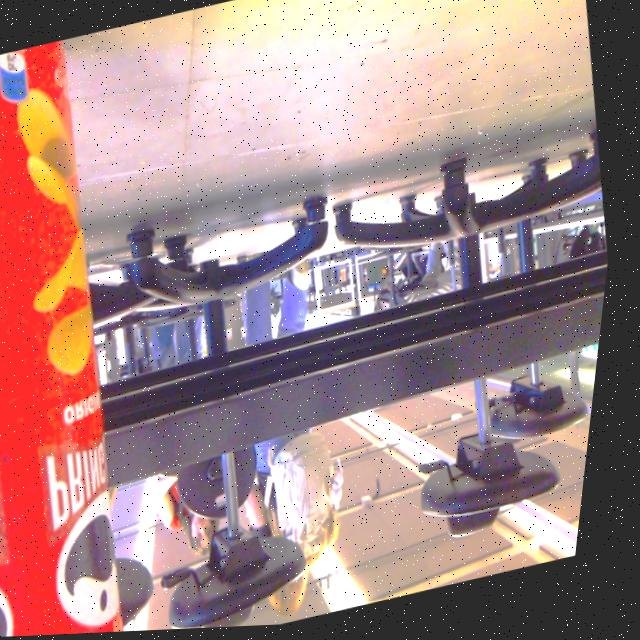redpringles: (0, 29, 216, 640)
